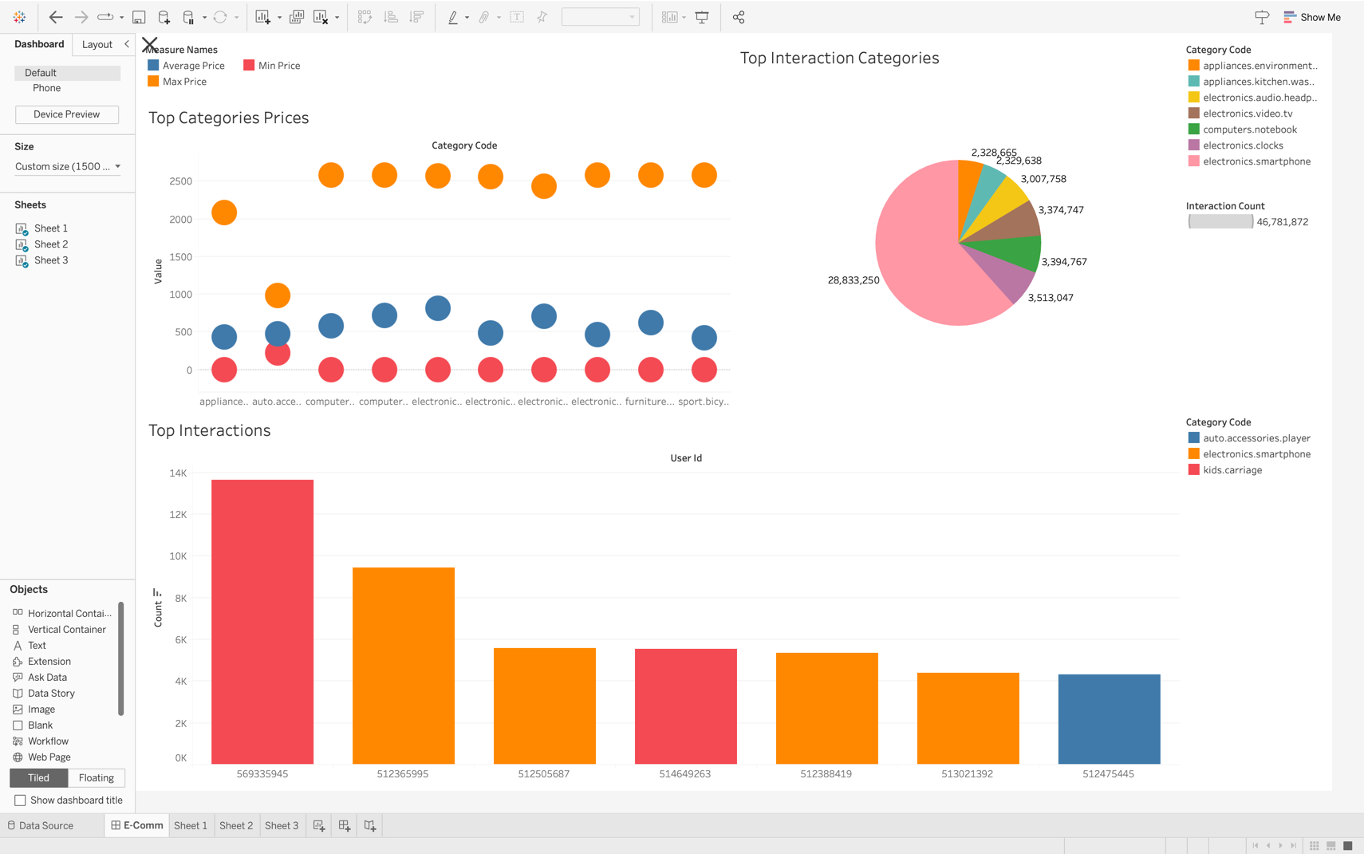

This screenshot's page, from the dashboard's own definition file:
{"tool":"tableau","page":{"name":"E-Comm","canvas":[1500,950],"ordinal":0},"visuals":[{"type":"dashboard-object","box":[0,0,36,28.5]},{"type":"legend","title":"Sheet 2","param":"[federated.0yajbfi01b2dpz1bkm0yc04xulx5].[:Measure Names]","box":[8,8,741.9,75]},{"type":"worksheet","title":"Sheet 3","mark":"Pie","box":[749.9,8,562.7,467]},{"type":"legend","title":"Sheet 3","param":"[federated.1fccsbg08o2x9v1goucsv0dz7uk3].[none:category_code:nk]","box":[1312.6,8,179.4,196]},{"type":"worksheet","title":"Sheet 2","mark":"Shape","cols":["category_code"],"box":[8,83,741.9,392]},{"type":"legend","title":"Sheet 3","param":"[federated.1fccsbg08o2x9v1goucsv0dz7uk3].[sum:interaction_count:qk]","box":[1312.6,204,179.4,271]},{"type":"worksheet","title":"Sheet 1","mark":"Automatic","rows":["count"],"cols":["user_id"],"box":[8,475,1304.7,467]},{"type":"legend","title":"Sheet 1","param":"[federated.1d89pz80cxw31119wf1020w237xu].[none:category_code:nk]","box":[1312.6,475,179.4,467]}]}

Visuals, with their boxes on the page's 1500x950 design canvas (x1, y1, x2, y2). These are canvas units, not pixel positions in the 1364x854 screenshot, which may show the page scaled, cropped or inside an application window:
dashboard-object: bbox(0, 0, 36, 28)
"Sheet 2" legend: bbox(8, 8, 750, 83)
"Sheet 3" worksheet (Pie marks): bbox(750, 8, 1313, 475)
"Sheet 3" legend: bbox(1313, 8, 1492, 204)
"Sheet 2" worksheet (Shape marks): bbox(8, 83, 750, 475)
"Sheet 3" legend: bbox(1313, 204, 1492, 475)
"Sheet 1" worksheet: bbox(8, 475, 1313, 942)
"Sheet 1" legend: bbox(1313, 475, 1492, 942)
